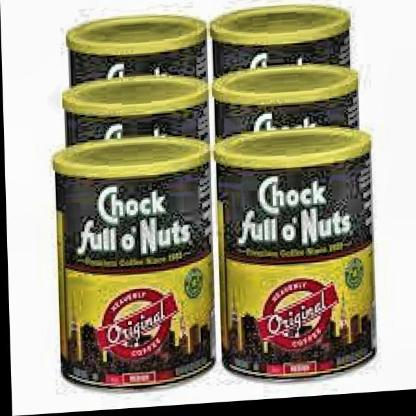Can: (47, 132, 222, 400), (212, 125, 382, 386)
